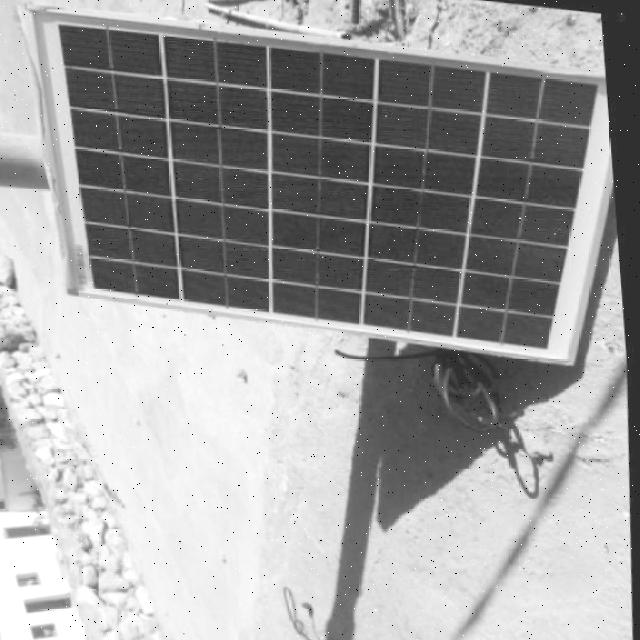Normal Solar Panel: (20, 16, 632, 374)
